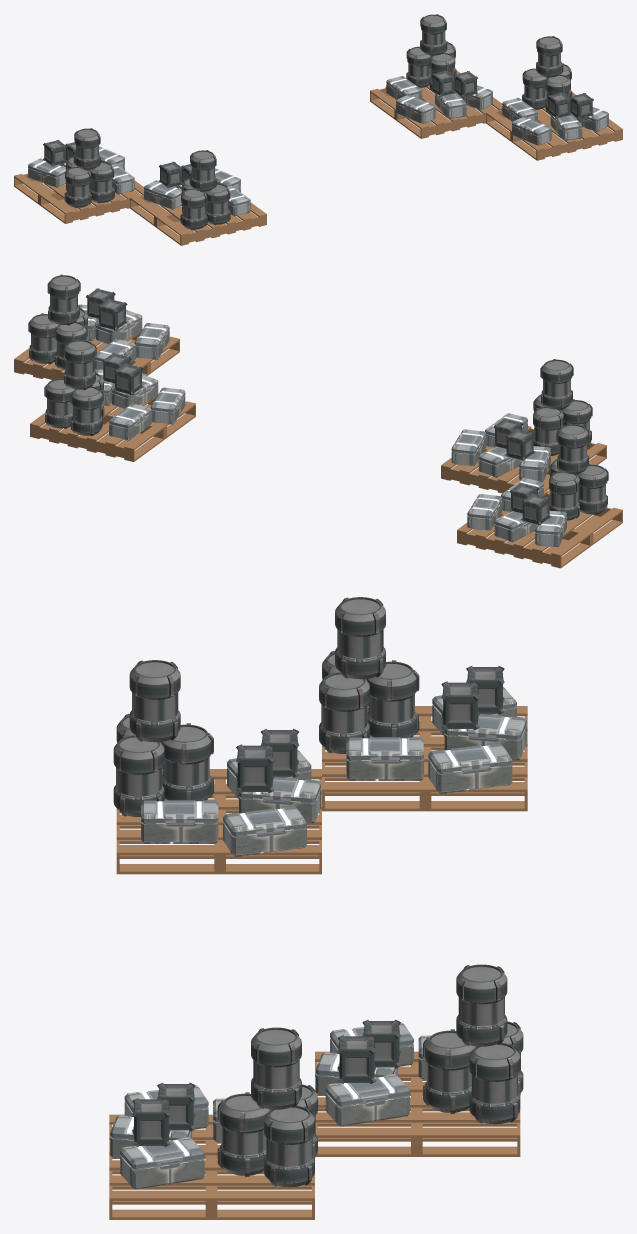
Rendered from Warehouse Pallet.fbx.
3 views of the same model, one above another, from view 1: azimuth 30°, elevation 25°; view 2: azimuth 150°, elevation 25°; view 3: azimuth 270°, elevation 25° (orthographic). The views are drawn at different scales.
Parts seen in each view (by area): view 1: Pallet.003, Pallet.001, Pallet.002, Pallet.004, Barrel.061, Barrel.015, Barrel.011, Barrel.004, Barrel.014, Barrel.010, Barrel.012, Barrel.008 (+24 smaller); view 2: Pallet.002, Pallet.004, Pallet.003, Pallet.001, Barrel.004, Barrel.011, Barrel.015, Barrel.061, Barrel.005, Barrel.010, Barrel.009, Barrel.007 (+26 smaller); view 3: Pallet.001, Pallet.004, Pallet.002, Pallet.003, Barrel.061, Barrel.015, Barrel.004, Barrel.011, Barrel.007, Barrel.003, Barrel.002, Barrel.006 (+24 smaller).
Part boxes in pixels (x1,y1,x2,y2): Pallet.003: (130,195,266,245); Pallet.001: (486,92,622,160); Pallet.002: (14,173,143,223); Pallet.004: (370,70,502,138); Barrel.061: (420,14,447,56); Barrel.015: (189,150,216,191); Barrel.011: (73,128,100,170); Barrel.004: (536,36,563,77); Barrel.014: (180,188,207,230); Barrel.010: (64,166,91,208); Barrel.012: (204,183,230,225); Barrel.008: (88,161,114,203); Pallet.002: (457,490,622,568); Pallet.004: (30,397,195,461); Pallet.003: (441,426,606,493); Pallet.001: (14,333,179,379); Barrel.004: (47,274,80,325); Barrel.011: (556,423,589,474); Barrel.015: (540,359,573,409); Barrel.061: (63,339,96,389); Barrel.005: (70,386,103,436); Barrel.010: (576,464,608,514); Barrel.009: (549,471,579,520); Barrel.007: (44,378,74,428); Pallet.001: (109,1114,314,1219); Pallet.004: (315,1051,520,1156); Pallet.002: (322,706,527,811); Pallet.003: (116,769,321,874); Barrel.061: (456,964,507,1046); Barrel.015: (129,660,180,742); Barrel.004: (251,1027,301,1109); Barrel.011: (335,597,385,679); Barrel.007: (469,1042,520,1124); Barrel.003: (264,1105,314,1187); Barrel.002: (217,1092,270,1176); Barrel.006: (423,1029,476,1113).
Size of the model in its own units: 1134 by 164 by 407.
